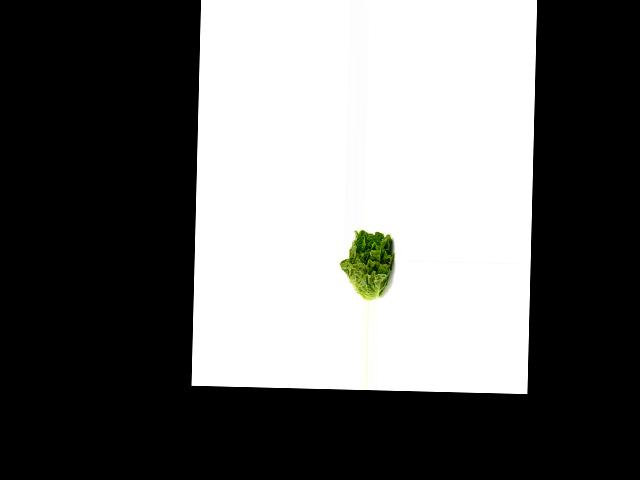lettuce: (340, 230, 398, 300)
